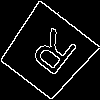R: (22, 26, 80, 85)
